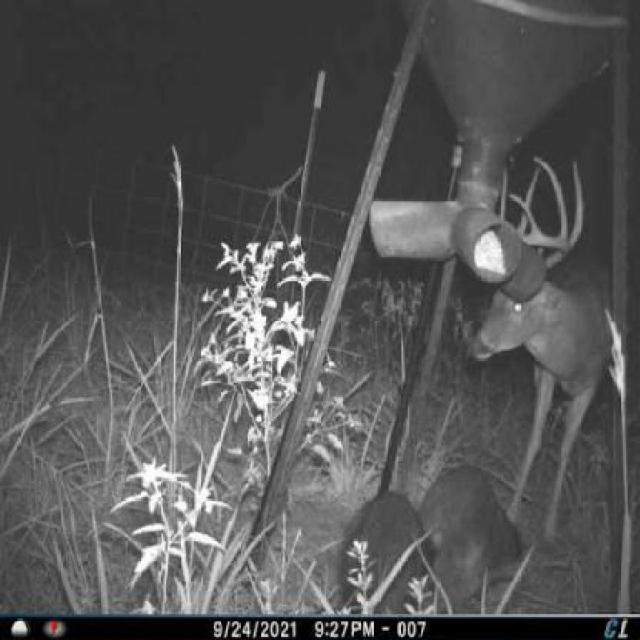Deer: (466, 144, 617, 547)
